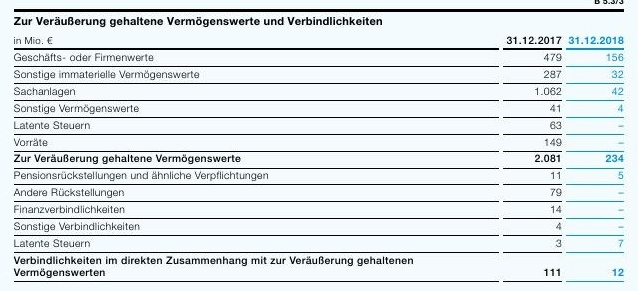table: (0, 0, 638, 291)
